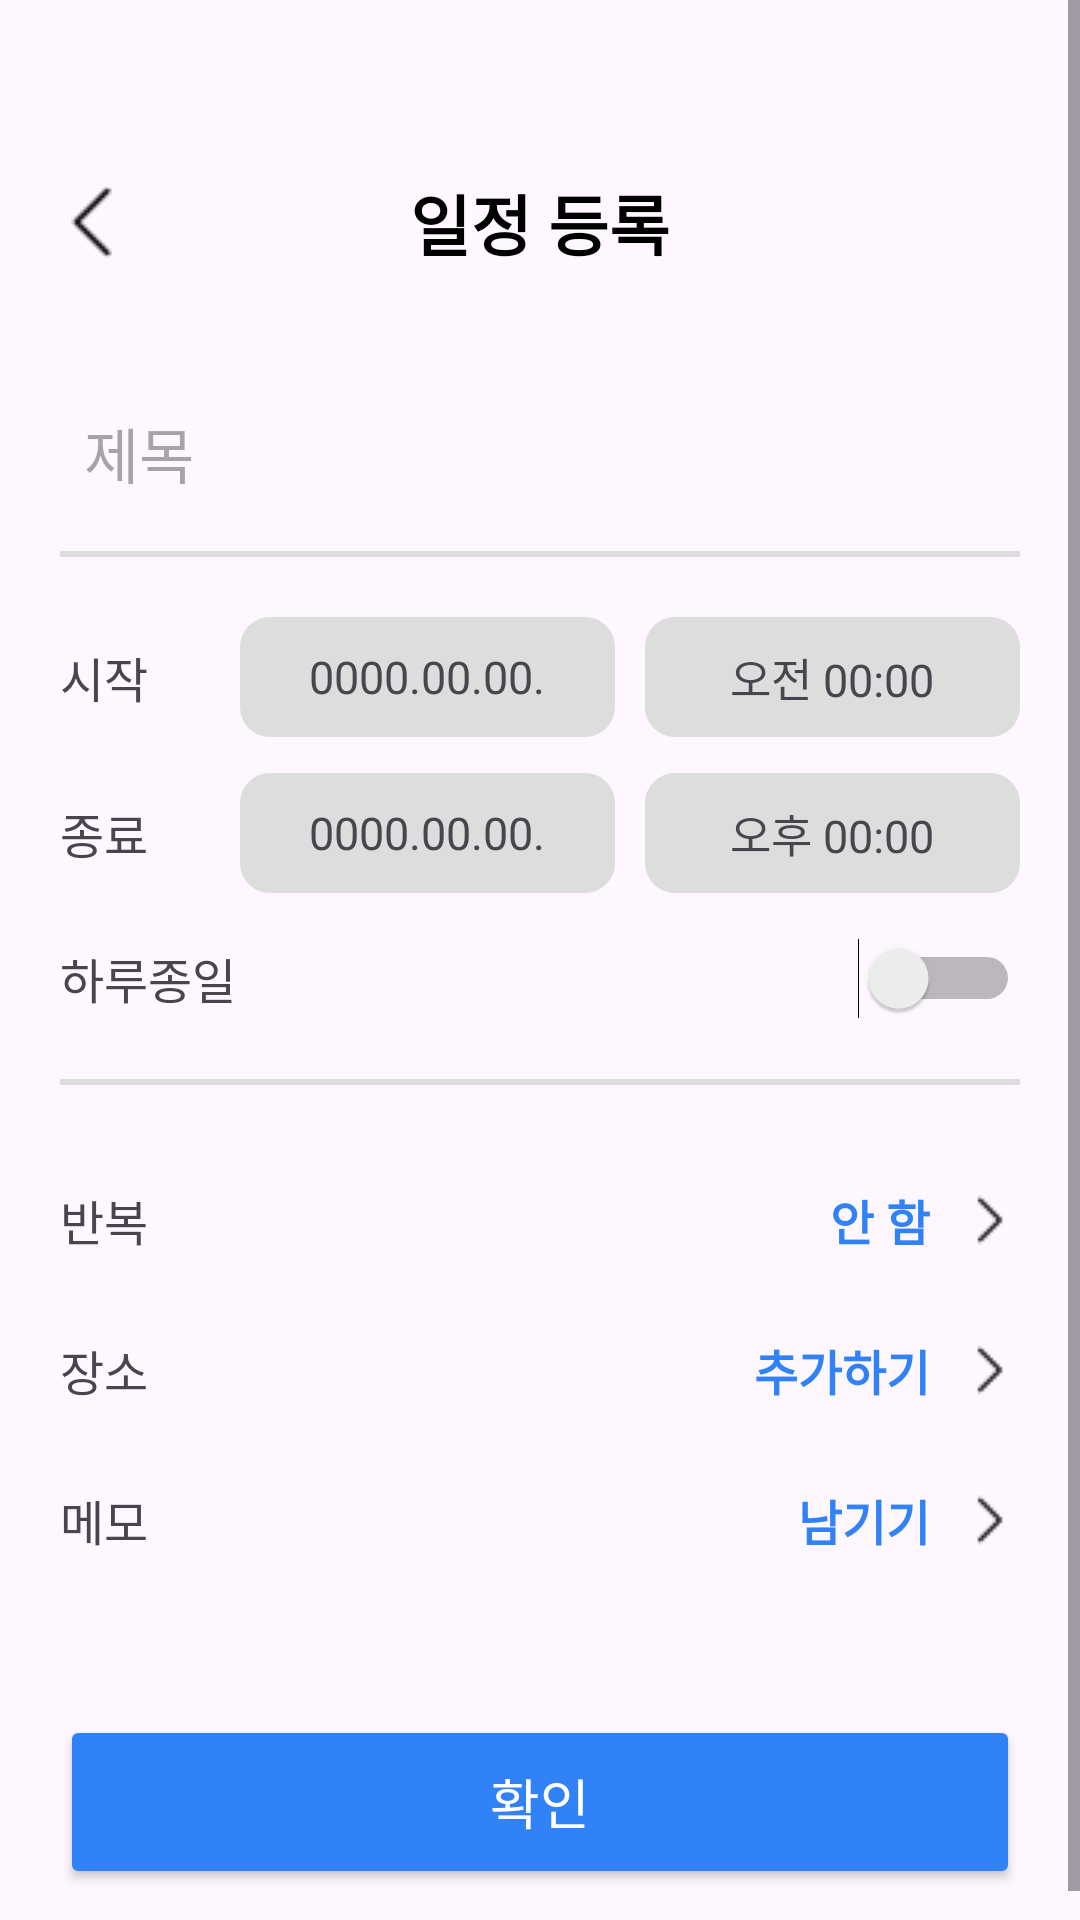

Icon click points for this 1080px x 1920px phone screenshot, format (x=x, y=y):
right arrow: (x=990, y=1220), (x=990, y=1370), (x=990, y=1520)
뒤로 가기: (x=92, y=222)
